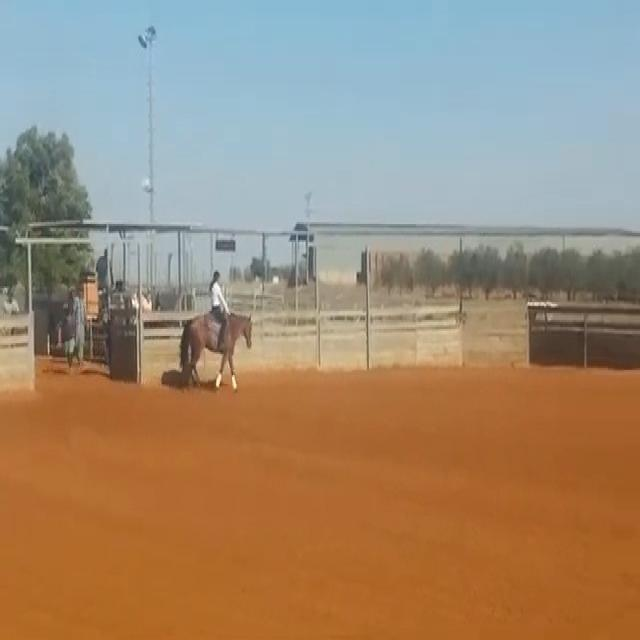horse: (177, 306, 253, 391)
